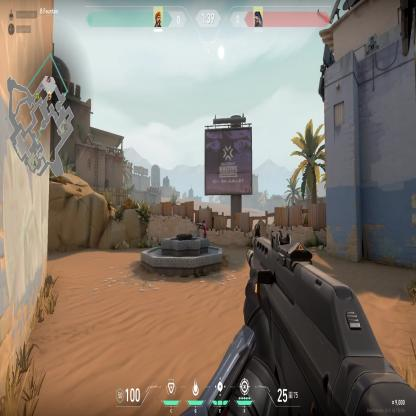enemy: (200, 219, 208, 238)
